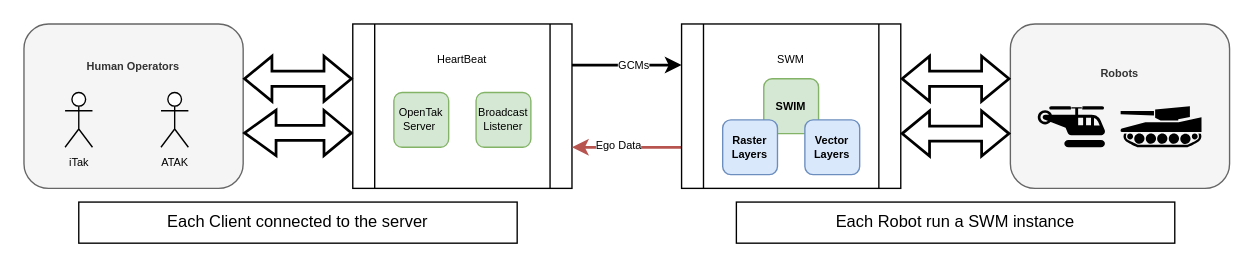
This 1254x267 diagram has some shape labels left out. The shapes that lost their labels are listed below. From the top down, each one's centre as x and y in pixels, then its label:
At (1071,126): "OPVs".
At (1160,126): "UGVs".
